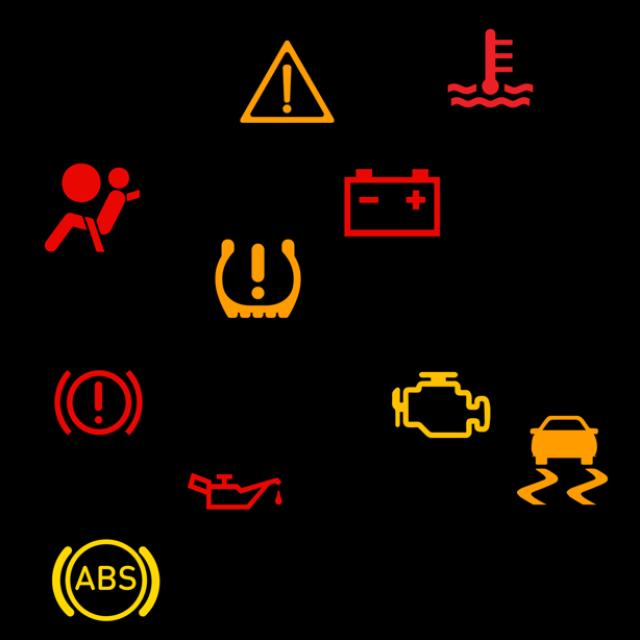Anti Lock Braking System: (47, 521, 165, 639)
Braking System Issue: (39, 344, 158, 462)
Charging System Issue: (334, 144, 452, 262)
Check Engine: (382, 346, 500, 464)
Electronic Stability Problem -ESP-: (504, 401, 622, 519)
Engine Overheating Warning Light: (432, 9, 550, 128)
Low Engine Oil Warning Light: (176, 432, 294, 550)
Low Tire Pressure Warning Light: (199, 220, 317, 338)
Master warning light: (228, 23, 346, 141)
SRS-Airbag: (33, 149, 151, 267)
